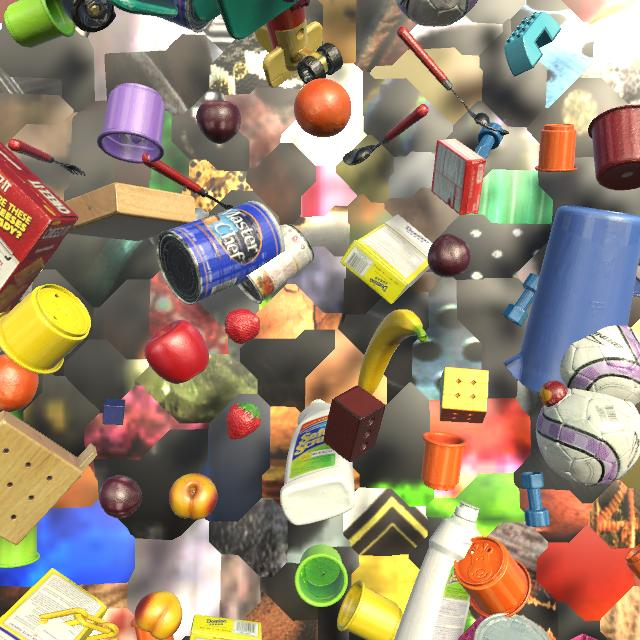ycb_002_master_chef_can: (156, 201, 285, 305), (473, 613, 551, 640), (157, 0, 215, 33)
ycb_003_cracker_box: (0, 142, 79, 313)
ycb_004_sugar_box: (340, 214, 433, 304), (0, 568, 107, 640), (189, 614, 262, 640)
ycb_005_tomato_soup_can: (237, 224, 314, 304)
ycb_008_pudding_box: (290, 0, 310, 13)
ycb_009_gelatin_box: (431, 138, 486, 215)
ycb_011_banana: (358, 309, 428, 395)
ycb_012_strawberry: (226, 402, 261, 440), (225, 309, 260, 344)
ycb_013_apple: (144, 320, 209, 384)
ycb_015_peach: (169, 473, 218, 520), (135, 591, 182, 640)
ycb_017_orange: (294, 78, 352, 137), (0, 354, 39, 412)
ycb_018_plum: (196, 101, 241, 144), (428, 234, 471, 277), (99, 475, 142, 518)
